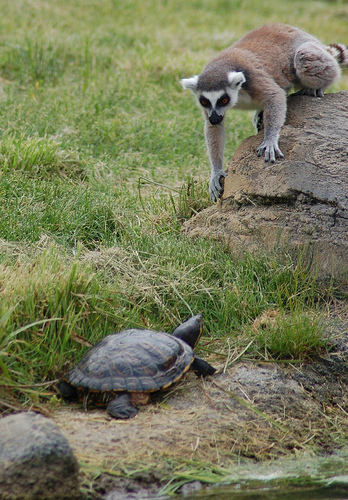cat: (180, 25, 346, 203)
